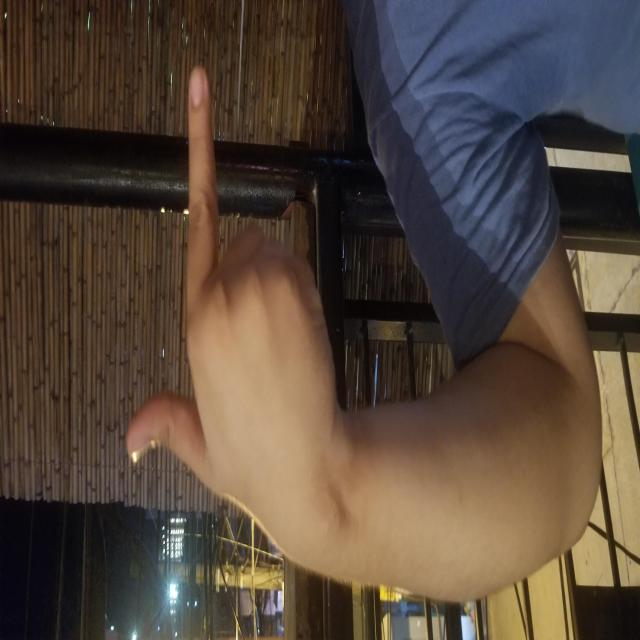G: (144, 127, 572, 340)
